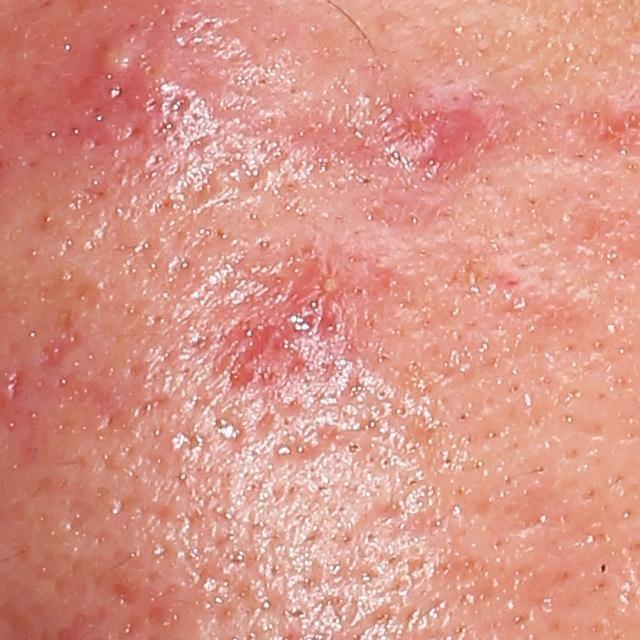atrophic_scar: (267, 417, 359, 469), (35, 307, 84, 372), (109, 579, 136, 613), (8, 366, 23, 399)
papule: (365, 74, 496, 181)
